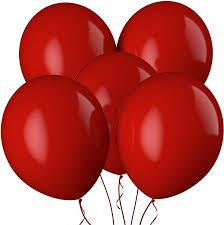red: (1, 76, 110, 203), (119, 76, 224, 201), (83, 52, 150, 174), (118, 0, 213, 83), (20, 10, 117, 81)
